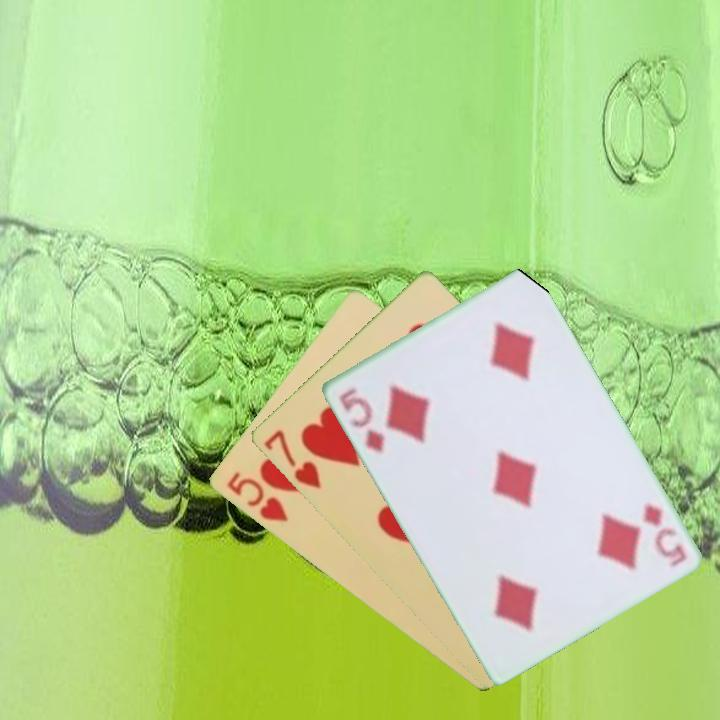5d: (335, 384, 387, 456), (638, 499, 689, 570)
5h: (223, 468, 290, 525)
7h: (260, 426, 324, 492)
